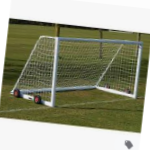goals: (8, 31, 145, 110)
